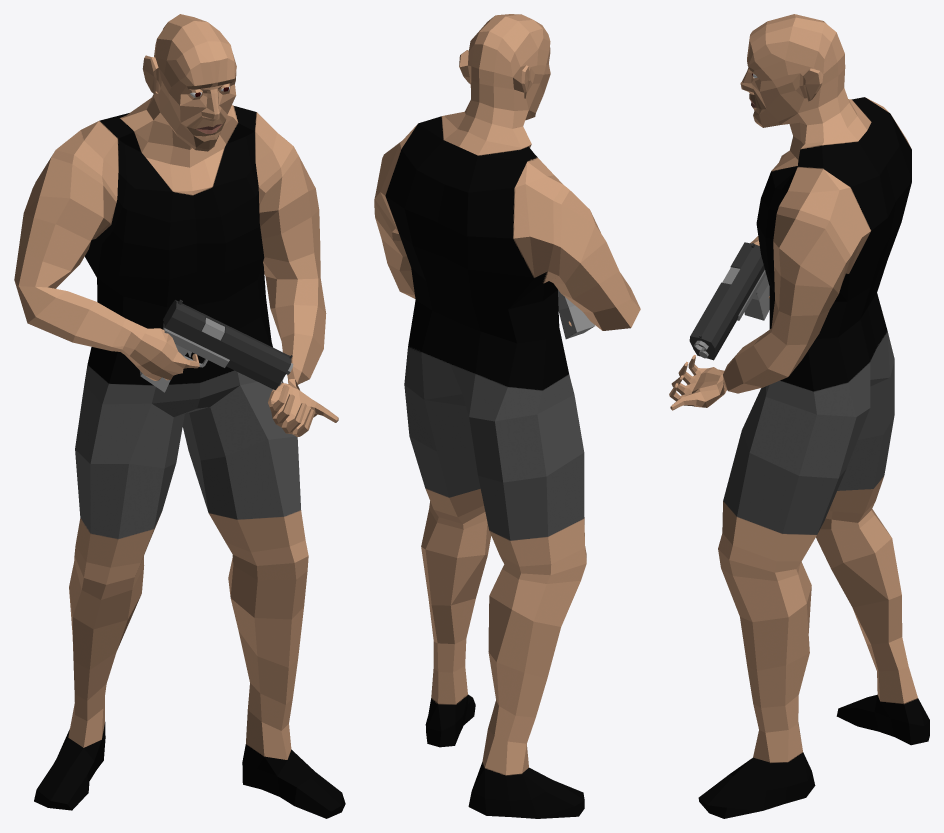
Rendered from PlayerIdle(69).obj.
The picture shows the model from 3 angles, left to right: view 1: azimuth 30°, elevation 25°; view 2: azimuth 150°, elevation 25°; view 3: azimuth 270°, elevation 25°; orthographic projection. The views are drawn at different scales.
Visible parts, largest first — view 1: Plane002, Box003; view 2: Plane002, Box003; view 3: Plane002, Box003.
Part boxes in pixels (x1=…): Plane002: x1=14, y1=14, x2=345, y2=818; Box003: x1=139, y1=299, x2=293, y2=392; Plane002: x1=374, y1=14, x2=640, y2=818; Box003: x1=558, y1=290, x2=595, y2=339; Plane002: x1=669, y1=14, x2=929, y2=818; Box003: x1=689, y1=242, x2=769, y2=360.
Bounding box in the file's own units: 669 × 1799 × 568.
